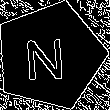N_N: (28, 30, 73, 82)
